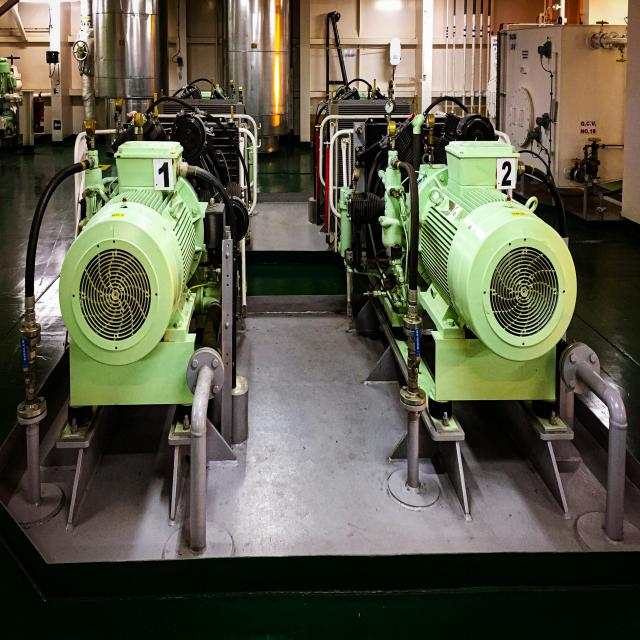compressor: (32, 77, 266, 541), (368, 110, 604, 431)
